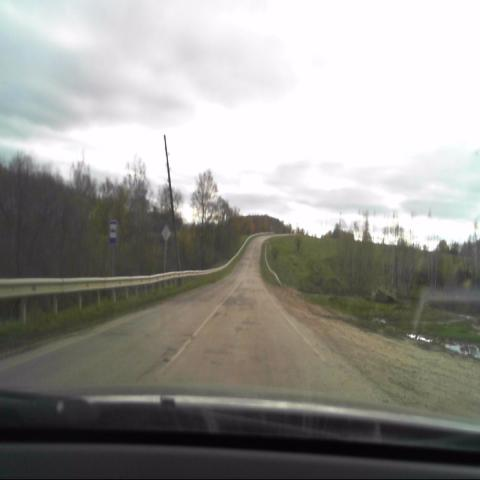5_16: (110, 220, 117, 243)
